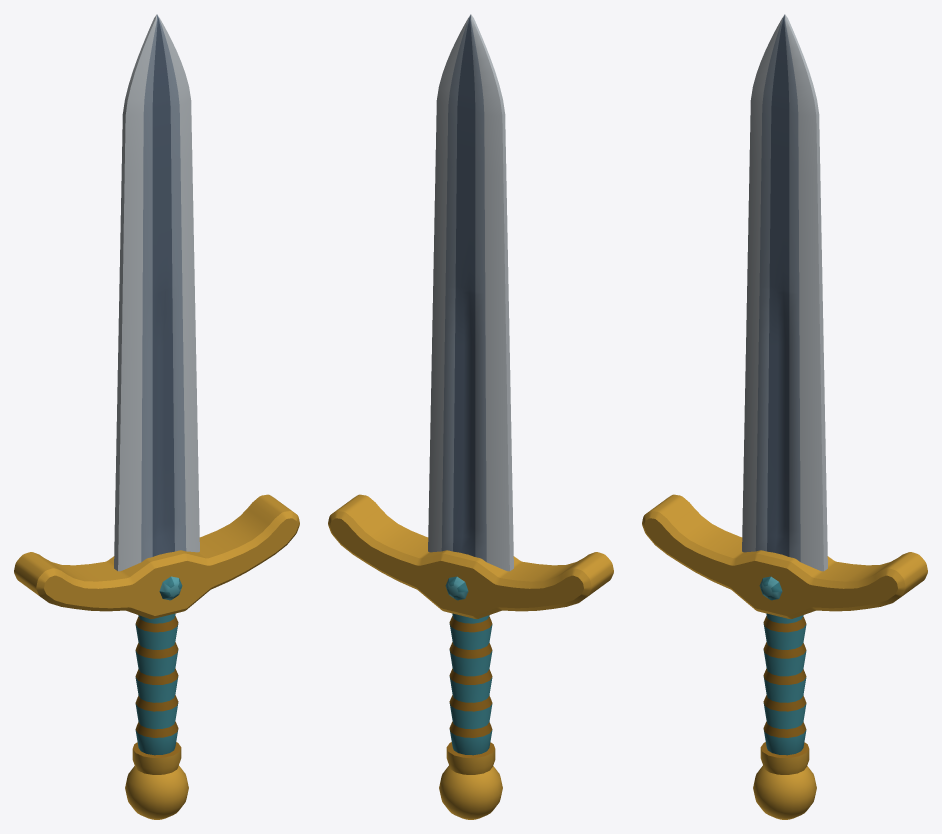
The model's file is Longsword_01.glb.
3 renders of one model, left to right at view 1: azimuth 30°, elevation 25°; view 2: azimuth 150°, elevation 25°; view 3: azimuth 330°, elevation 25°, orthographic.
Visible parts, largest first — view 1: Longsword_01; view 2: Longsword_01; view 3: Longsword_01.
Boxes of the visible parts, <box> form: Longsword_01: <box>14,14,299,819</box>; Longsword_01: <box>328,14,613,819</box>; Longsword_01: <box>642,14,927,819</box>.
Size of the model in its own units: 2.46 by 7.15 by 0.5628.
